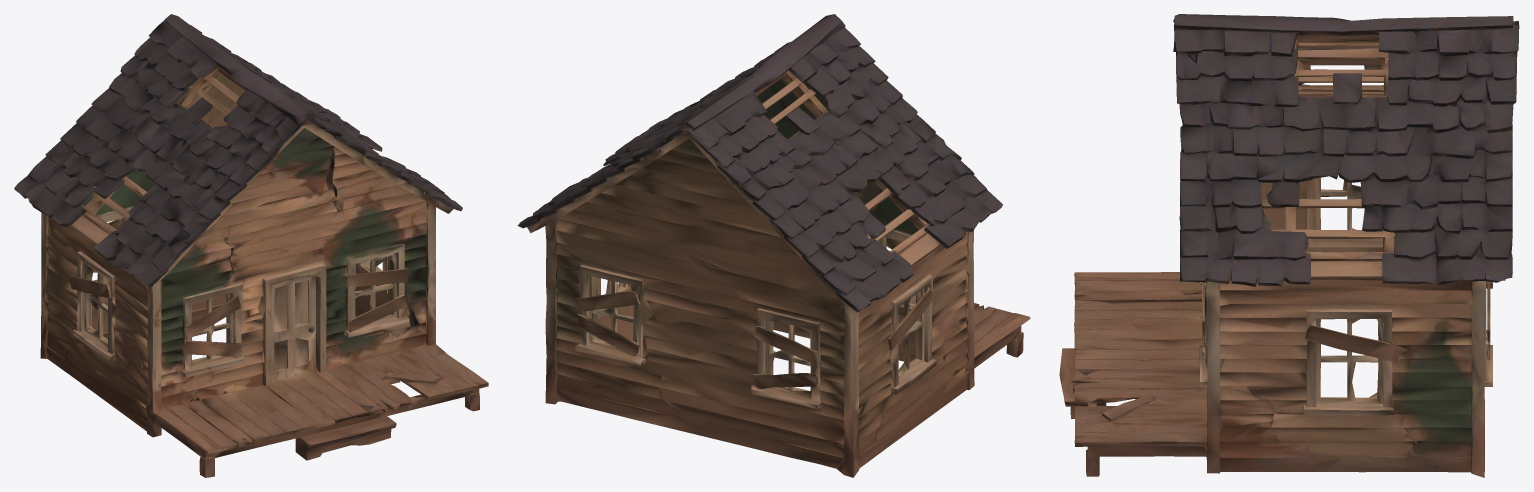
The model's file is house_wood_b_idle.glb.
3 renders of one model, left to right at view 1: azimuth 30°, elevation 25°; view 2: azimuth 150°, elevation 25°; view 3: azimuth 270°, elevation 25°, orthographic. The views are drawn at different scales.
Parts seen in each view (by area): view 1: tripo_node_7303ee13-8a73-4d65-9ecc-49f618348518; view 2: tripo_node_7303ee13-8a73-4d65-9ecc-49f618348518; view 3: tripo_node_7303ee13-8a73-4d65-9ecc-49f618348518.
Boxes of the visible parts, <box> form: tripo_node_7303ee13-8a73-4d65-9ecc-49f618348518: <box>14,14,488,477</box>; tripo_node_7303ee13-8a73-4d65-9ecc-49f618348518: <box>517,14,1030,477</box>; tripo_node_7303ee13-8a73-4d65-9ecc-49f618348518: <box>1059,14,1519,477</box>.
Bounding box in the file's own units: 2.2 × 2 × 2.19.
Materials: 1 (1 with a texture image).
